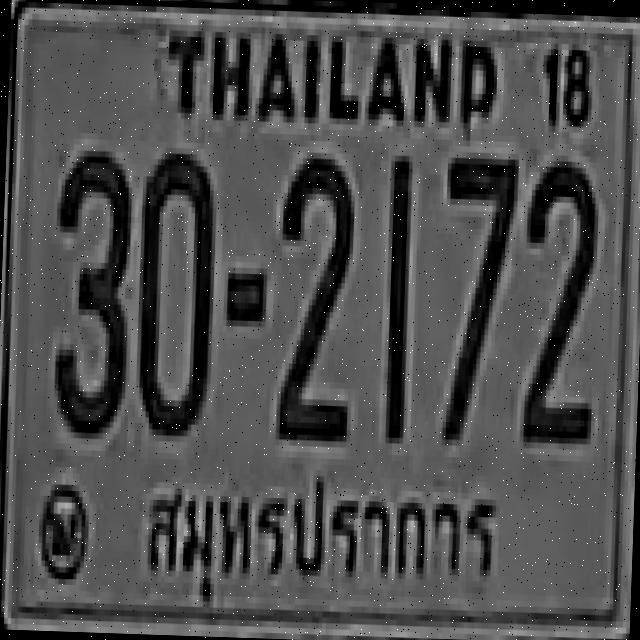0: (134, 150, 214, 433)
1: (380, 152, 411, 440)
2: (518, 157, 598, 441), (274, 152, 354, 436)
3: (49, 144, 130, 434)
7: (436, 151, 516, 441)
SamutPrakan: (135, 456, 508, 629)
